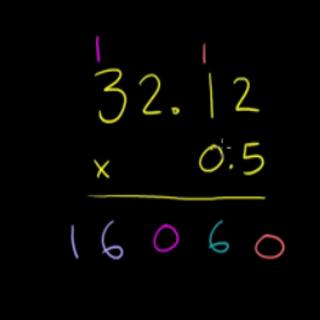.: (167, 100, 184, 121), (226, 161, 237, 175)
0: (252, 227, 287, 263), (196, 135, 225, 174), (150, 223, 181, 256)
1: (201, 68, 220, 125), (67, 221, 83, 263)
2: (227, 71, 263, 117), (137, 68, 168, 120)
3: (85, 68, 131, 126)
5: (240, 135, 267, 180)
6: (97, 217, 126, 264), (204, 212, 230, 257)
